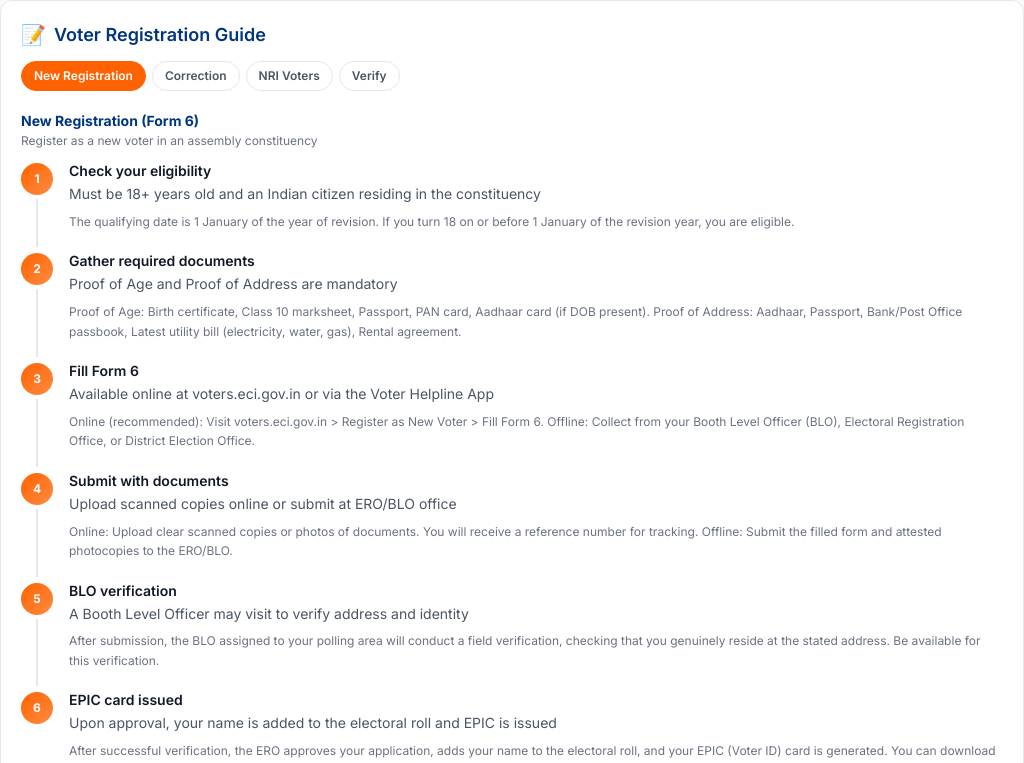
Test: RegistrationTabs › switches to NRI Voters tab when clicked
Click the tab "NRI Voters".
click(289, 76)  # box [246, 61, 333, 91]
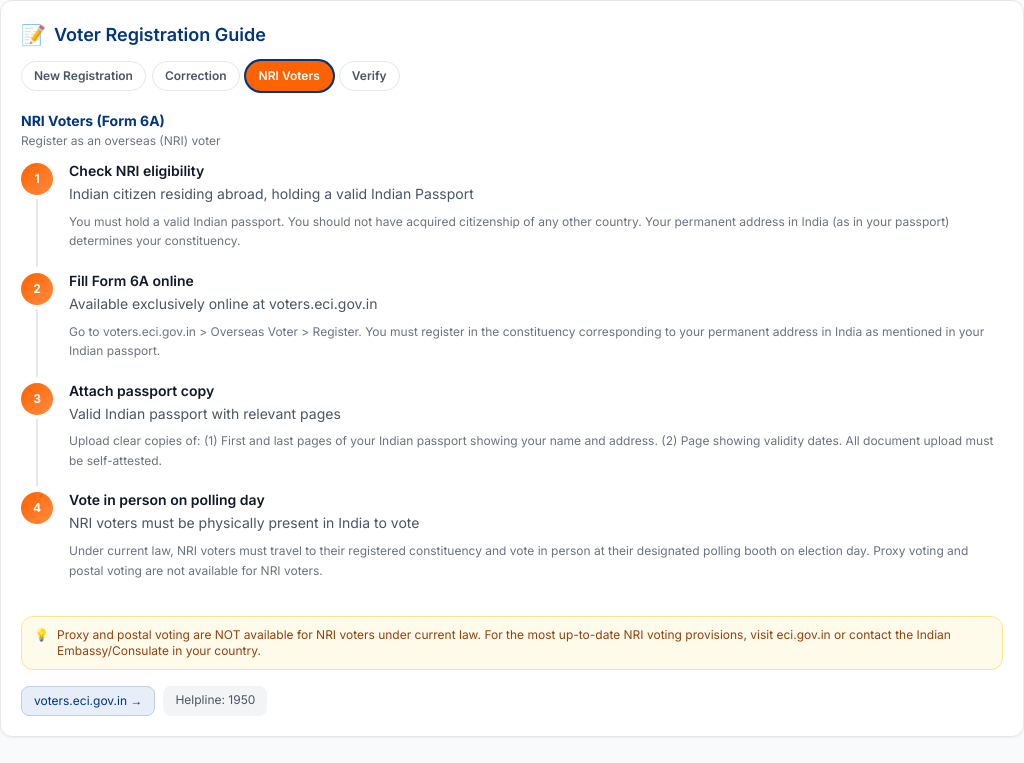
expect the heading "NRI Voters (Form 6A)" is shown: met, box [21, 112, 165, 129]
